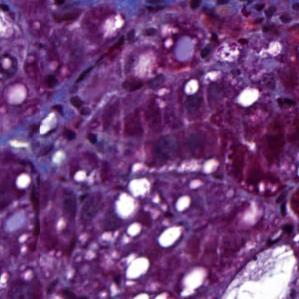ballooning: (218, 243, 296, 296)
